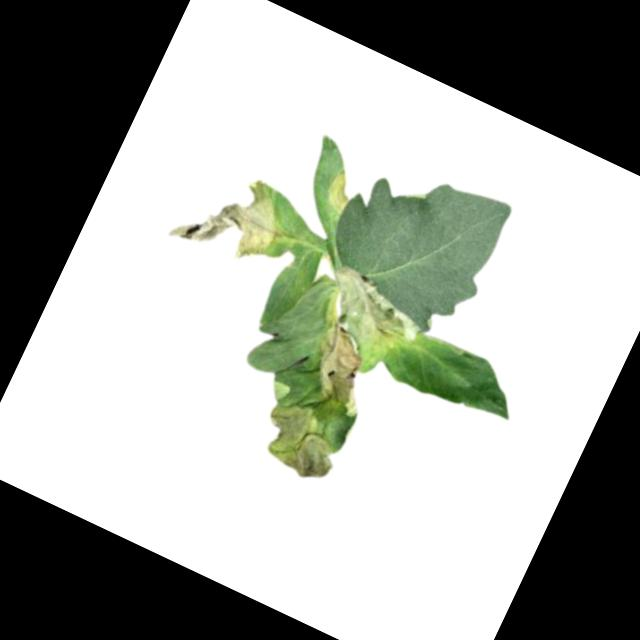Late_blight: (165, 152, 301, 282), (302, 262, 435, 387), (243, 382, 356, 489), (304, 354, 375, 419), (319, 166, 360, 215)
